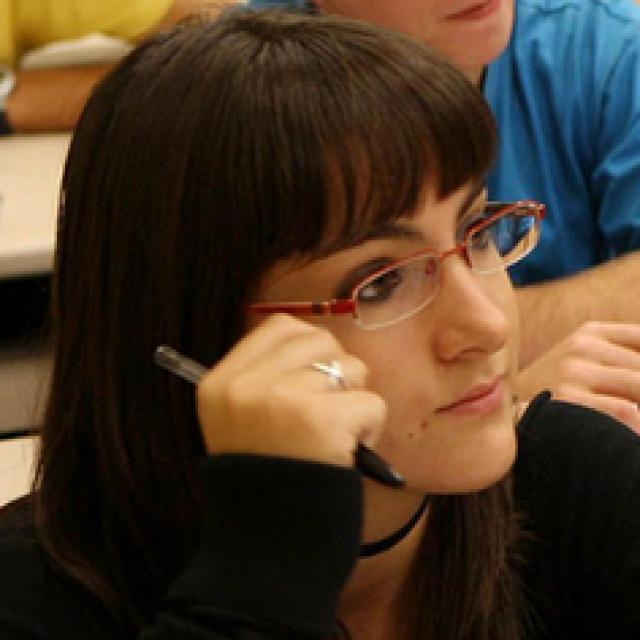Looking forward: (247, 181, 523, 498)
